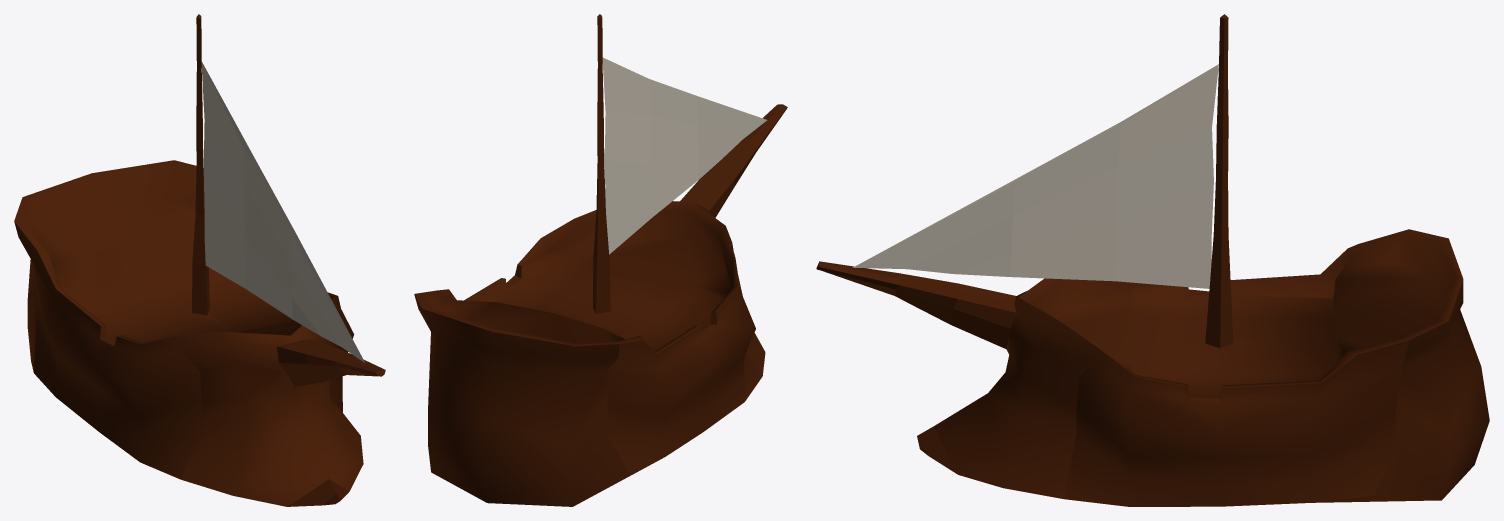
The model's file is EnemyShip.FBX.
3 renders of one model, left to right at view 1: azimuth 30°, elevation 25°; view 2: azimuth 150°, elevation 25°; view 3: azimuth 270°, elevation 25°, orthographic. The views are drawn at different scales.
Parts seen in each view (by area): view 1: Ship; view 2: Ship; view 3: Ship.
Part boxes in pixels (<box>): Ship: <box>14,14,385,506</box>; Ship: <box>414,14,787,506</box>; Ship: <box>816,14,1489,506</box>.
Size of the model in its own units: 109 by 198 by 252.
2 materials, 1 textured.
